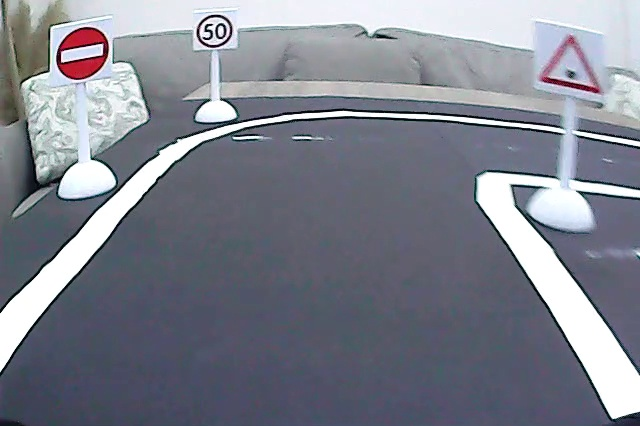do not enter: (54, 23, 114, 81)
green light: (535, 28, 607, 97)
speed limit 50: (195, 12, 236, 51)
